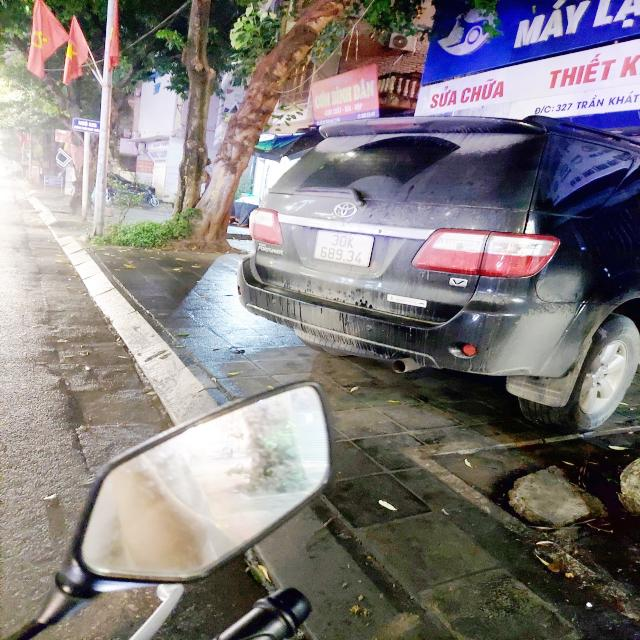license_plate: (311, 227, 376, 267)
